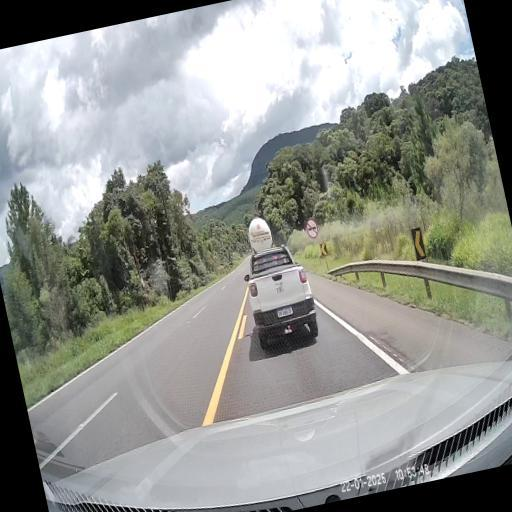R-7: (304, 216, 320, 240)
